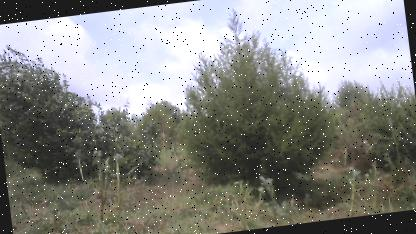tree: (167, 0, 342, 199), (0, 26, 163, 193)
